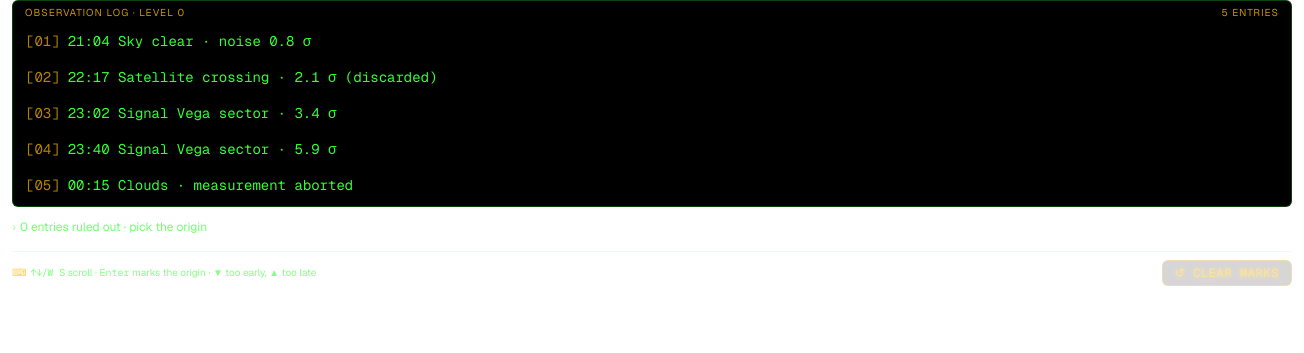
temporal texts follow the puzzle › chart table (3 σ, Level 0) shows no σ-17 / Level −3 text
Click the button with aria-label "Entry 1:".
click(190, 41)  # box [17, 24, 1287, 58]
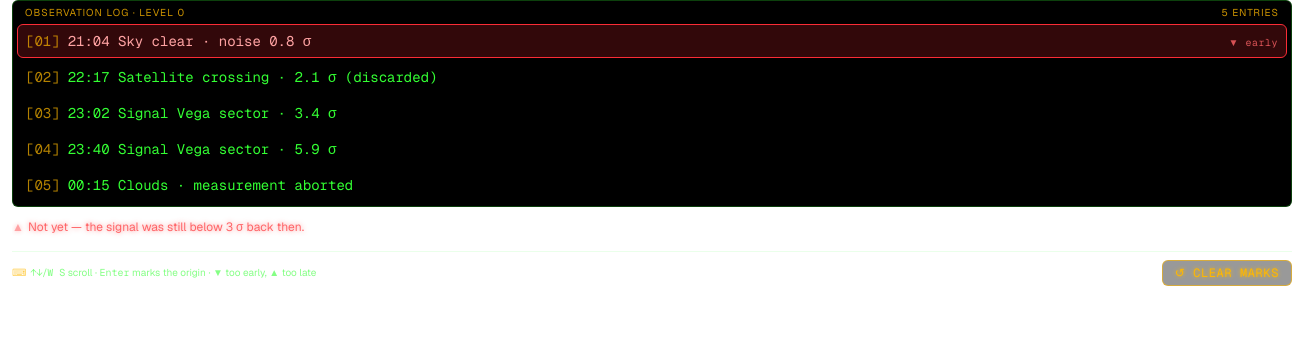
Now the text "below 3 σ" is shown, box [28, 219, 304, 235]
Click the button with aria-label "Entry 2:".
click(253, 77)  # box [17, 60, 1287, 94]
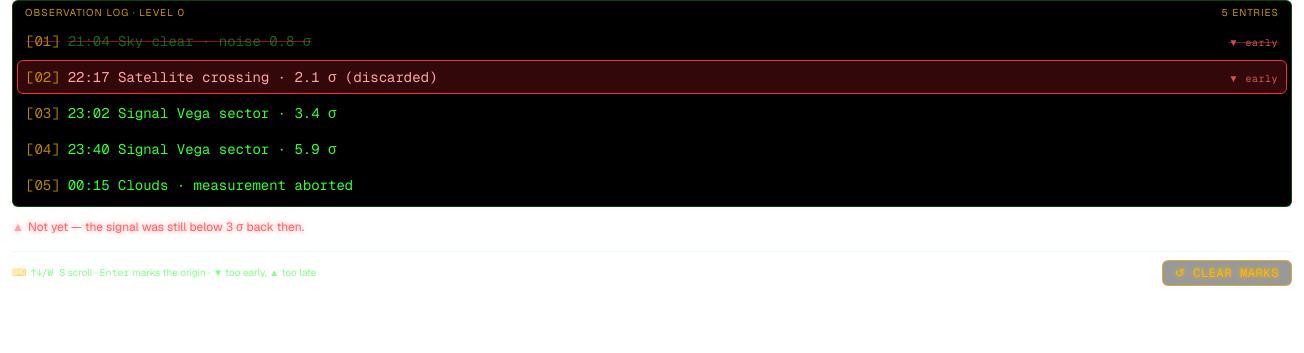
Click the button "[04] 23:40 Signal Vega sector · 5.9 σ".
click(202, 149)  # box [17, 132, 1287, 166]
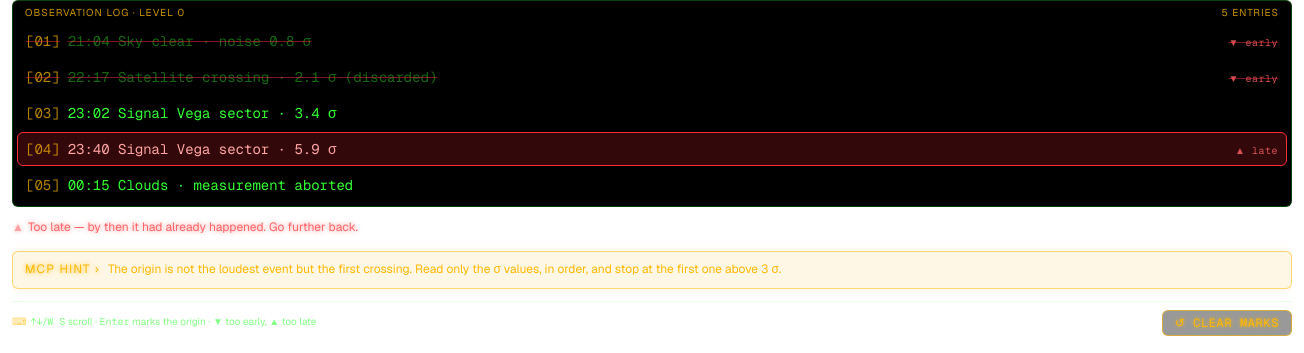
Now the element that starts with "MCP HINT ›" shows "above 3 σ", box [108, 261, 781, 277]
